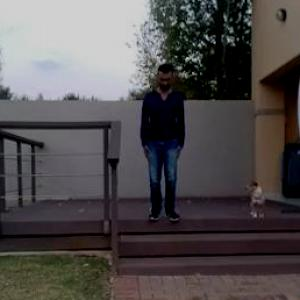follow: (138, 64, 179, 228)
